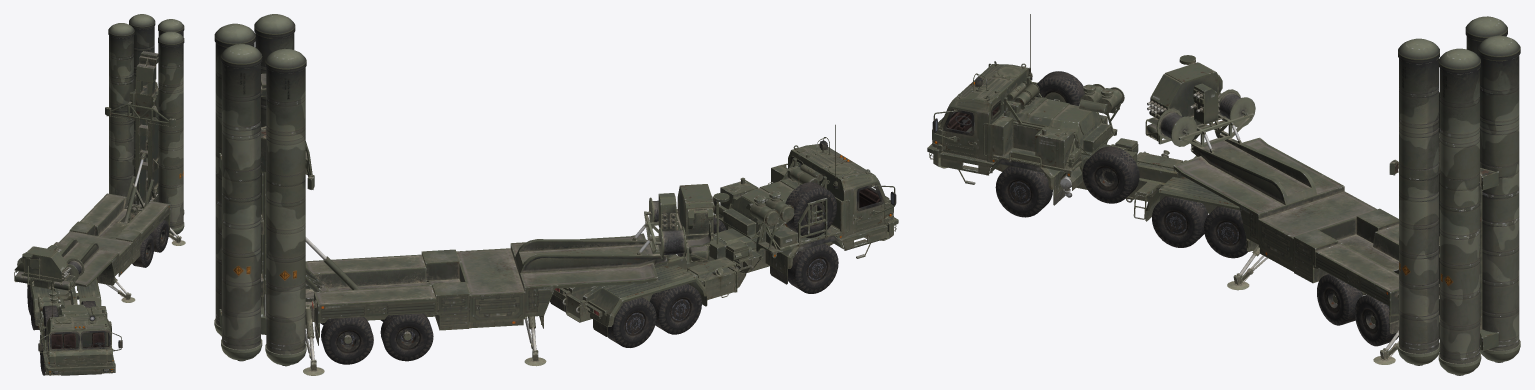
3 renders of one model, left to right at view 1: azimuth 30°, elevation 25°; view 2: azimuth 150°, elevation 25°; view 3: azimuth 270°, elevation 25°, orthographic. The views are drawn at different scales.
Visible parts, largest first — view 1: SM_S400_VarA_01_01_Rockets_4.001, SM_S400_VarA_01_01_Truck_1.001; view 2: SM_S400_VarA_01_01_Rockets_4.001, SM_S400_VarA_01_01_Truck_1.001; view 3: SM_S400_VarA_01_01_Rockets_4.001, SM_S400_VarA_01_01_Truck_1.001.
Boxes of the visible parts, box(x1,y1,x2,y2) form: SM_S400_VarA_01_01_Rockets_4.001: box(14, 14, 185, 302); SM_S400_VarA_01_01_Truck_1.001: box(27, 278, 122, 375); SM_S400_VarA_01_01_Rockets_4.001: box(214, 14, 729, 375); SM_S400_VarA_01_01_Truck_1.001: box(550, 124, 898, 347); SM_S400_VarA_01_01_Rockets_4.001: box(1145, 16, 1520, 375); SM_S400_VarA_01_01_Truck_1.001: box(927, 14, 1247, 258).
Bounding box in the file's own units: 132811 × 87647 × 146813.
